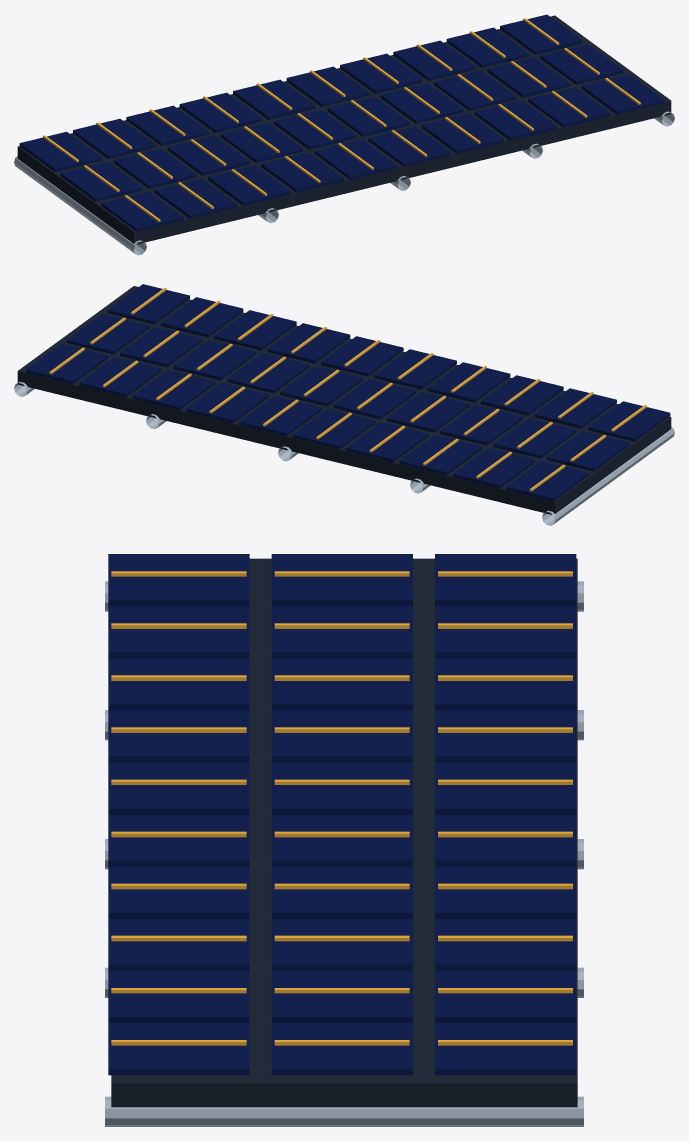
Rendered from 22_L85_ServiceSpacecraftStarboardSolarWing.fbx.
The picture shows the model from 3 angles, top to bottom: view 1: azimuth 30°, elevation 25°; view 2: azimuth 150°, elevation 25°; view 3: azimuth 270°, elevation 25°; orthographic projection. The views are drawn at different scales.
Parts seen in each view (by area): view 1: L85_ServiceSpacecraftStarboardSolarWing_Part_0002, L85_ServiceSpacecraftStarboardSolarWing_Part_0001, L85_ServiceSpacecraftStarboardSolarWing_Part_0000, L85_ServiceSpacecraftStarboardSolarWing_Part_0003, L85_ServiceSpacecraftStarboardSolarWing_Part_0004, L85_ServiceSpacecraftStarboardSolarWing_Part_0005, L85_ServiceSpacecraftStarboardSolarWing_Part_0007; view 2: L85_ServiceSpacecraftStarboardSolarWing_Part_0002, L85_ServiceSpacecraftStarboardSolarWing_Part_0001, L85_ServiceSpacecraftStarboardSolarWing_Part_0000, L85_ServiceSpacecraftStarboardSolarWing_Part_0003, L85_ServiceSpacecraftStarboardSolarWing_Part_0005, L85_ServiceSpacecraftStarboardSolarWing_Part_0004, L85_ServiceSpacecraftStarboardSolarWing_Part_0007; view 3: L85_ServiceSpacecraftStarboardSolarWing_Part_0001, L85_ServiceSpacecraftStarboardSolarWing_Part_0002, L85_ServiceSpacecraftStarboardSolarWing_Part_0000, L85_ServiceSpacecraftStarboardSolarWing_Part_0003, L85_ServiceSpacecraftStarboardSolarWing_Part_0005, L85_ServiceSpacecraftStarboardSolarWing_Part_0004, L85_ServiceSpacecraftStarboardSolarWing_Part_0007, L85_ServiceSpacecraftStarboardSolarWing_Part_0006.
Boxes of the visible parts, x1=… form: L85_ServiceSpacecraftStarboardSolarWing_Part_0002: x1=286, y1=14, x2=610, y2=179; L85_ServiceSpacecraftStarboardSolarWing_Part_0001: x1=19, y1=79, x2=356, y2=231; L85_ServiceSpacecraftStarboardSolarWing_Part_0000: x1=17, y1=15, x2=671, y2=244; L85_ServiceSpacecraftStarboardSolarWing_Part_0003: x1=540, y1=44, x2=664, y2=114; L85_ServiceSpacecraftStarboardSolarWing_Part_0004: x1=43, y1=83, x2=332, y2=221; L85_ServiceSpacecraftStarboardSolarWing_Part_0005: x1=310, y1=18, x2=587, y2=169; L85_ServiceSpacecraftStarboardSolarWing_Part_0007: x1=14, y1=111, x2=674, y2=255; L85_ServiceSpacecraftStarboardSolarWing_Part_0002: x1=26, y1=297, x2=456, y2=436; L85_ServiceSpacecraftStarboardSolarWing_Part_0001: x1=292, y1=362, x2=670, y2=501; L85_ServiceSpacecraftStarboardSolarWing_Part_0000: x1=17, y1=286, x2=671, y2=514; L85_ServiceSpacecraftStarboardSolarWing_Part_0003: x1=66, y1=284, x2=189, y2=354; L85_ServiceSpacecraftStarboardSolarWing_Part_0005: x1=49, y1=300, x2=433, y2=426; L85_ServiceSpacecraftStarboardSolarWing_Part_0004: x1=316, y1=366, x2=646, y2=491; L85_ServiceSpacecraftStarboardSolarWing_Part_0007: x1=14, y1=382, x2=674, y2=525; L85_ServiceSpacecraftStarboardSolarWing_Part_0001: x1=108, y1=554, x2=576, y2=814; L85_ServiceSpacecraftStarboardSolarWing_Part_0002: x1=108, y1=762, x2=576, y2=1075; L85_ServiceSpacecraftStarboardSolarWing_Part_0000: x1=111, y1=558, x2=577, y2=1107; L85_ServiceSpacecraftStarboardSolarWing_Part_0003: x1=108, y1=1023, x2=412, y2=1075; L85_ServiceSpacecraftStarboardSolarWing_Part_0005: x1=111, y1=779, x2=572, y2=1045; L85_ServiceSpacecraftStarboardSolarWing_Part_0004: x1=111, y1=571, x2=572, y2=784; L85_ServiceSpacecraftStarboardSolarWing_Part_0007: x1=105, y1=581, x2=583, y2=1126; L85_ServiceSpacecraftStarboardSolarWing_Part_0006: x1=111, y1=1040, x2=409, y2=1045.
Size of the model in its own units: 287 by 14.58 by 110.
